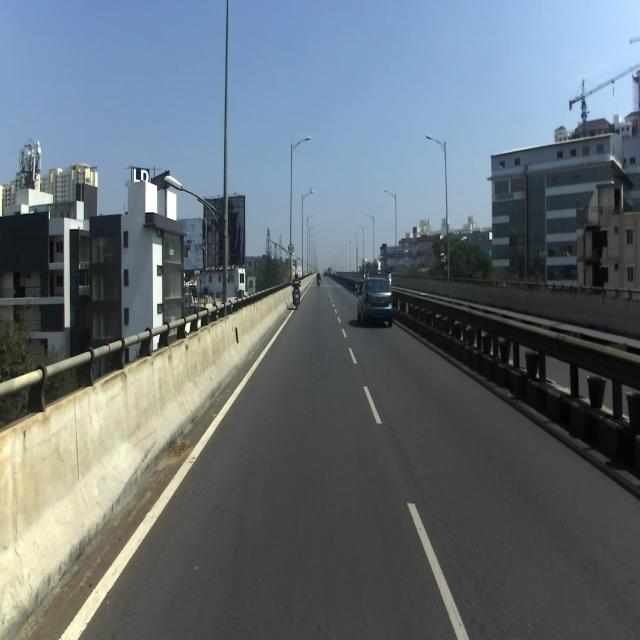car ahead at: (354, 269, 398, 335)
